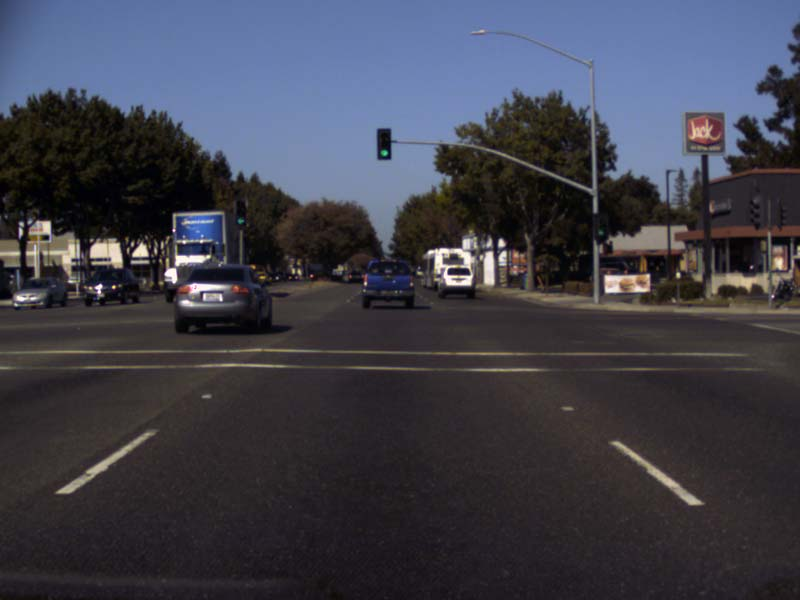Green: (376, 128, 391, 159), (592, 212, 609, 239), (234, 199, 245, 226)
